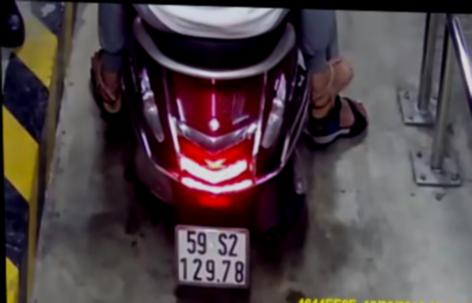License_Plate: (168, 221, 254, 293)
